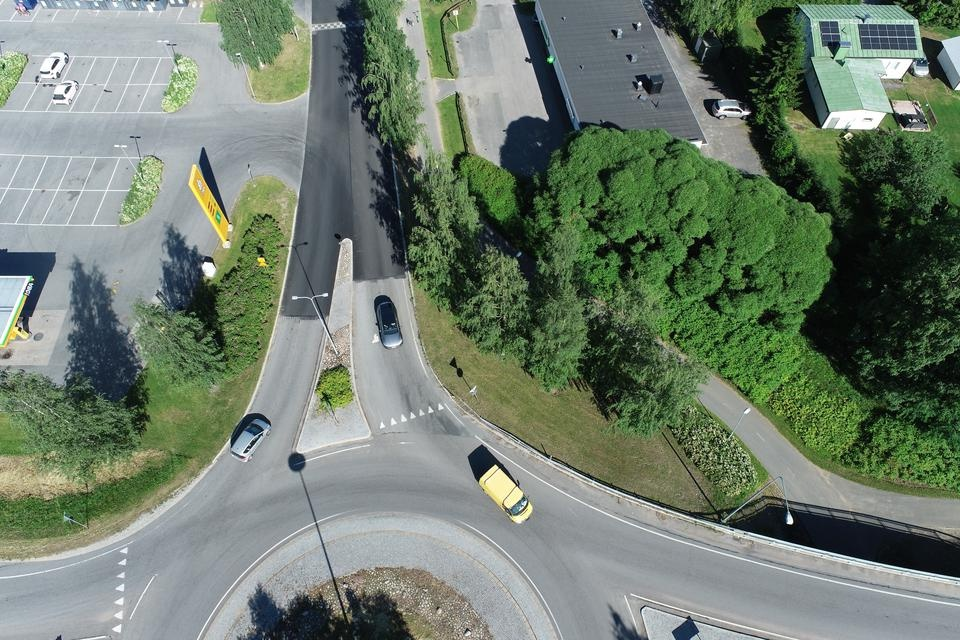roundabout: (79, 407, 662, 640)
